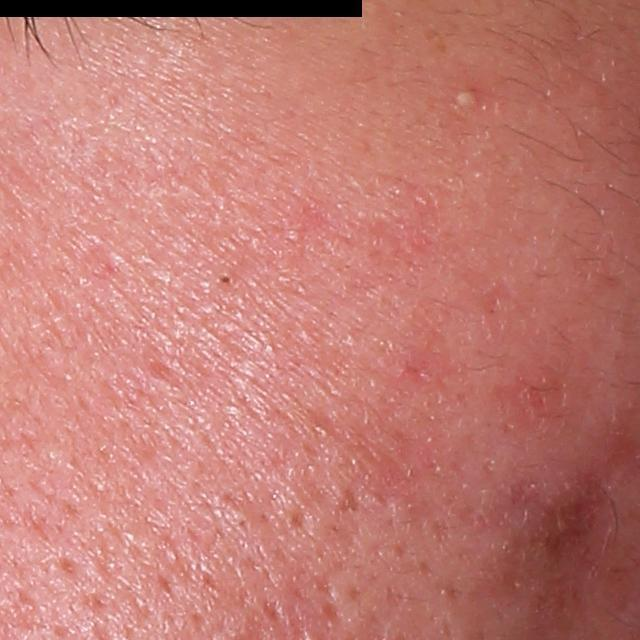comedo: (218, 272, 235, 290)
pustule: (452, 91, 480, 117)
